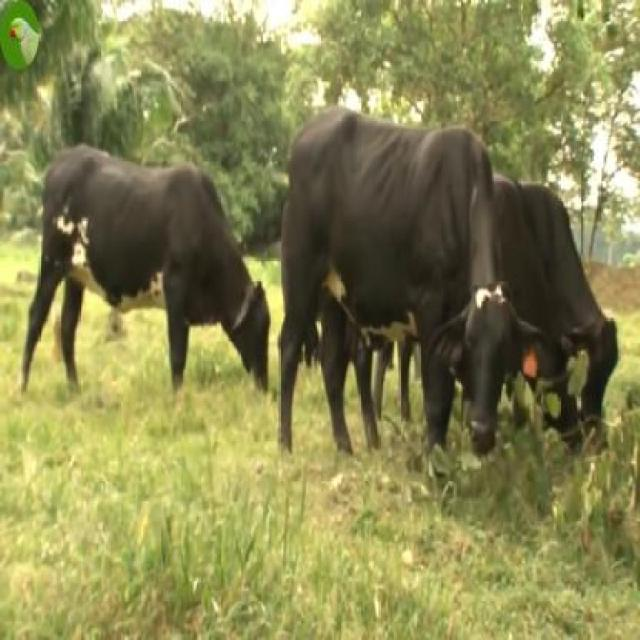Cow: (23, 145, 268, 429)
